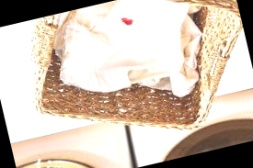blood: (119, 13, 135, 30)
